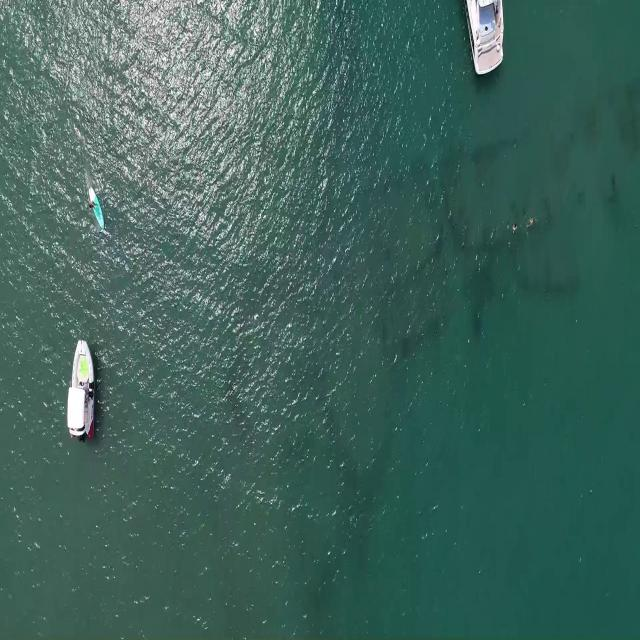boat: (65, 328, 97, 448), (464, 0, 505, 76)
person: (526, 216, 540, 230), (87, 198, 99, 213), (511, 222, 519, 232)
surfboard: (88, 183, 103, 233)
